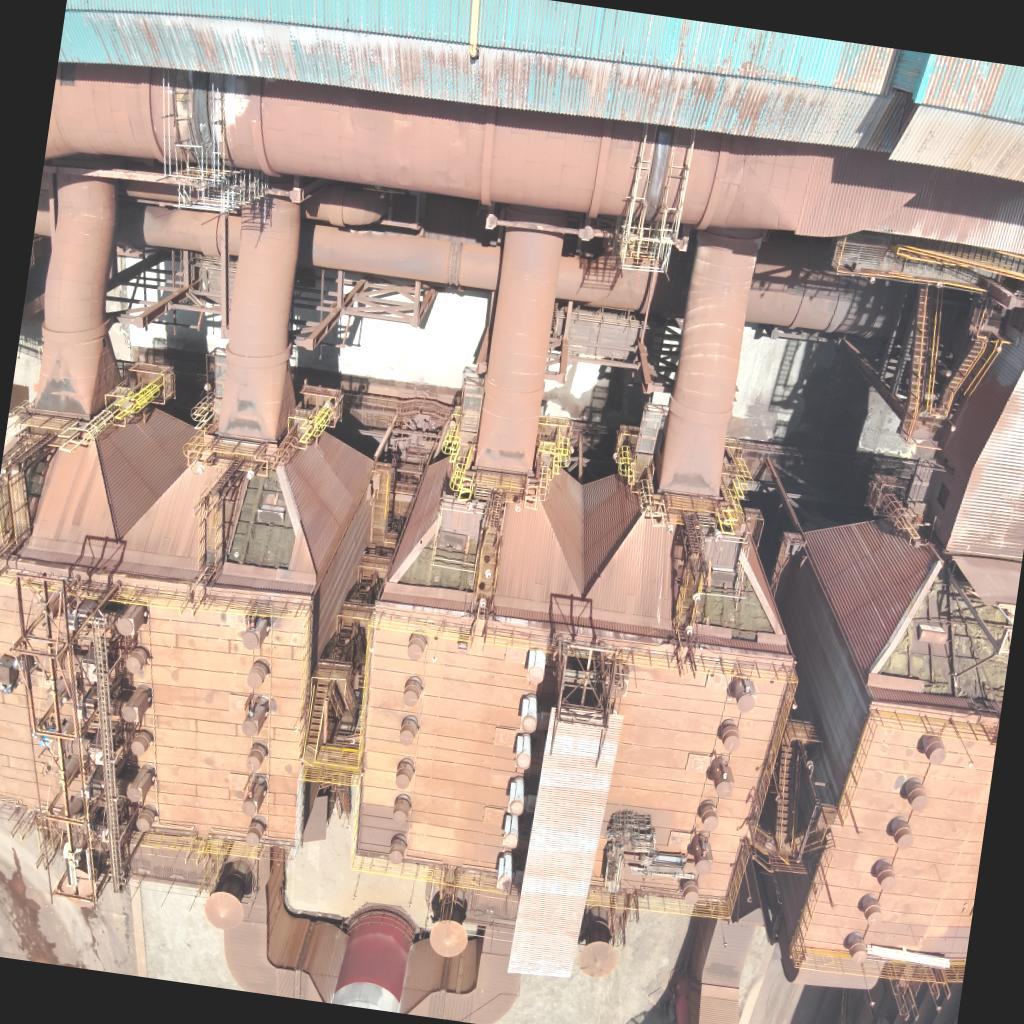Failures: (872, 554, 1020, 704), (692, 555, 785, 646), (226, 470, 304, 574), (396, 525, 482, 600), (58, 60, 78, 90)
